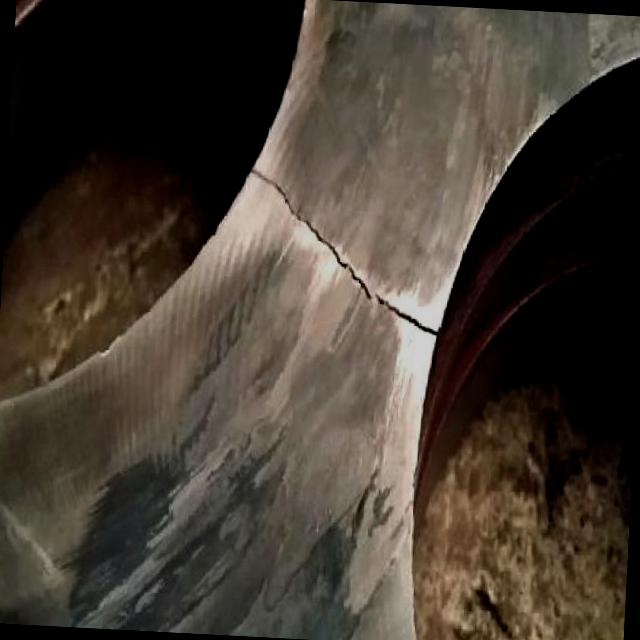crack: (290, 212, 346, 264), (370, 296, 440, 332), (252, 170, 296, 212), (342, 260, 370, 294)
